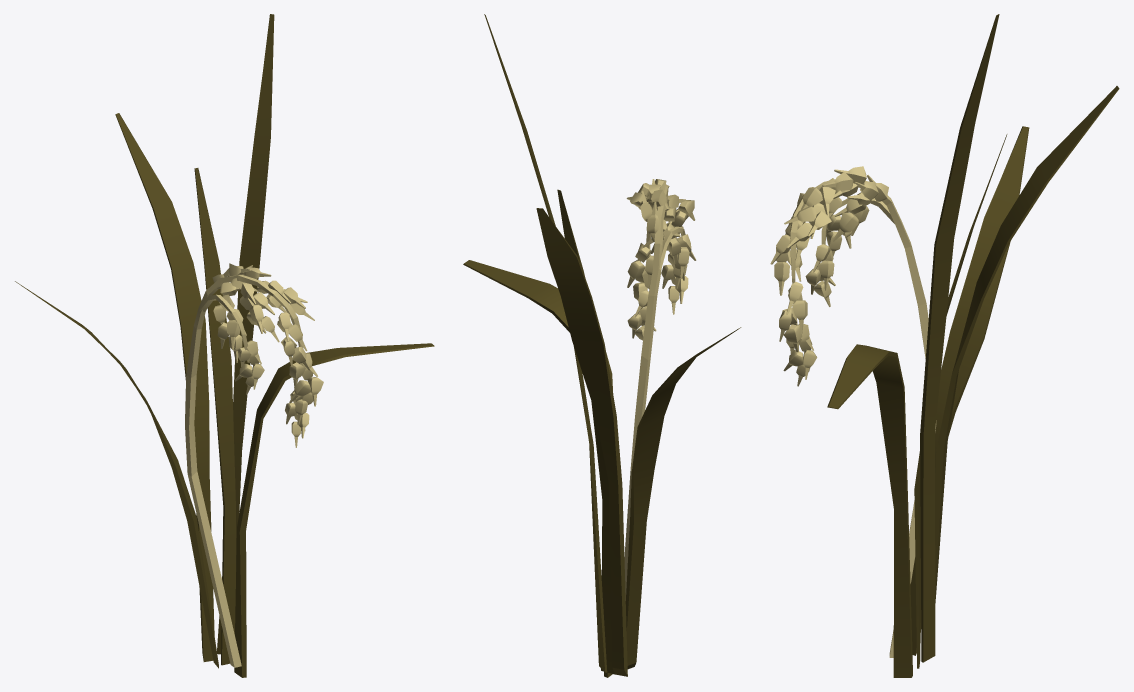
File: RicePlant.obj
The picture shows the model from 3 angles, left to right: view 1: azimuth 30°, elevation 25°; view 2: azimuth 150°, elevation 25°; view 3: azimuth 270°, elevation 25°; orthographic projection. The views are drawn at different scales.
Visible parts, largest first — view 1: pCube4 group12 pCube7, group12 pCube5 pCube8, pCube1 transform1 group11 transform4 transform7 transform10 tran, group11 pPlane1, group12 pCube6; view 2: group12 pCube5 pCube8, pCube4 group12 pCube7, pCube1 transform1 group11 transform4 transform7 transform10 tran, group11 pPlane1, group12 pCube6; view 3: group12 pCube5 pCube8, pCube4 group12 pCube7, pCube1 transform1 group11 transform4 transform7 transform10 tran, group12 pCube6, group11 pPlane1.
Boxes of the visible parts, left/top/right/bottom form: pCube4 group12 pCube7: left=194, top=14, right=274, bottom=665; group12 pCube5 pCube8: left=15, top=113, right=218, bottom=668; pCube1 transform1 group11 transform4 transform7 transform10 tran: left=212, top=263, right=323, bottom=447; group11 pPlane1: left=185, top=275, right=303, bottom=667; group12 pCube6: left=234, top=343, right=434, bottom=677; group12 pCube5 pCube8: left=536, top=208, right=741, bottom=676; pCube4 group12 pCube7: left=484, top=14, right=615, bottom=674; pCube1 transform1 group11 transform4 transform7 transform10 tran: left=626, top=179, right=696, bottom=340; group11 pPlane1: left=624, top=184, right=669, bottom=600; group12 pCube6: left=463, top=260, right=613, bottom=677; group12 pCube5 pCube8: left=910, top=86, right=1119, bottom=655; pCube4 group12 pCube7: left=914, top=14, right=1007, bottom=668; pCube1 transform1 group11 transform4 transform7 transform10 tran: left=770, top=166, right=888, bottom=386; group12 pCube6: left=827, top=344, right=912, bottom=677; group11 pPlane1: left=790, top=179, right=936, bottom=657.
Bounding box in the file's own units: 37.52 × 65.75 × 29.6.
